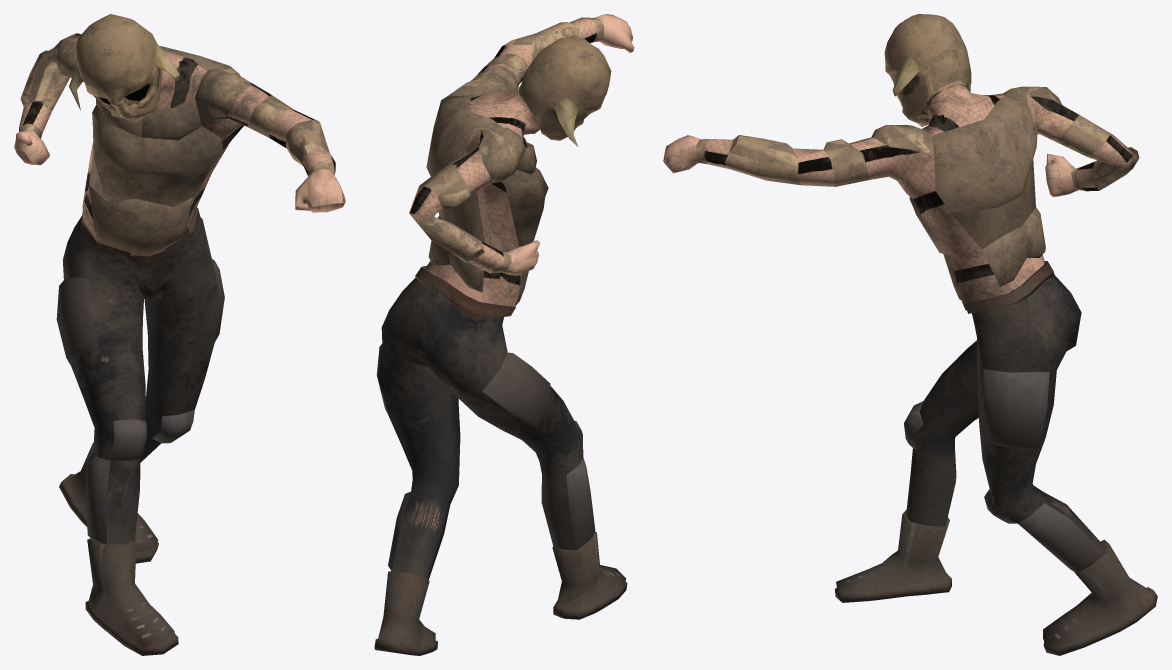
Rendered from Anim_ataque_d2_npc1.0035.obj.
3 renders of one model, left to right at view 1: azimuth 30°, elevation 25°; view 2: azimuth 150°, elevation 25°; view 3: azimuth 270°, elevation 25°, orthographic. The views are drawn at different scales.
Visible parts, largest first — view 1: NPC2; view 2: NPC2; view 3: NPC2.
Part boxes in pixels (<box>): NPC2: <box>14,14,345,655</box>; NPC2: <box>374,14,634,655</box>; NPC2: <box>663,14,1157,655</box>.
Bounding box in the file's own units: 2.71 × 8.66 × 6.58.
